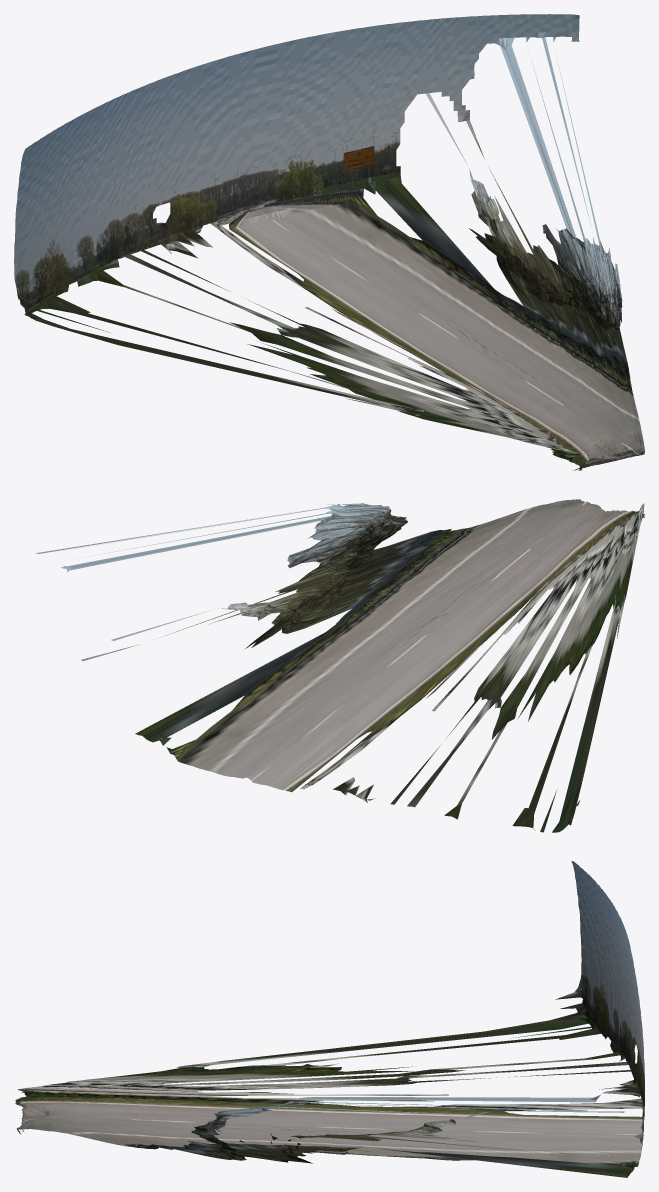
The picture shows the model from 3 angles, top to bottom: view 1: azimuth 30°, elevation 25°; view 2: azimuth 150°, elevation 25°; view 3: azimuth 270°, elevation 25°; orthographic projection. The views are drawn at different scales.
Visible parts, largest first — view 1: defaultobject; view 2: defaultobject; view 3: defaultobject.
Boxes of the visible parts, x1=… form: defaultobject: x1=14, y1=14, x2=644, y2=470; defaultobject: x1=36, y1=499, x2=644, y2=832; defaultobject: x1=15, y1=861, x2=644, y2=1177.
Bounding box in the file's own units: 40.98 × 13.11 × 44.6.
Materials: 1 (1 with a texture image).
